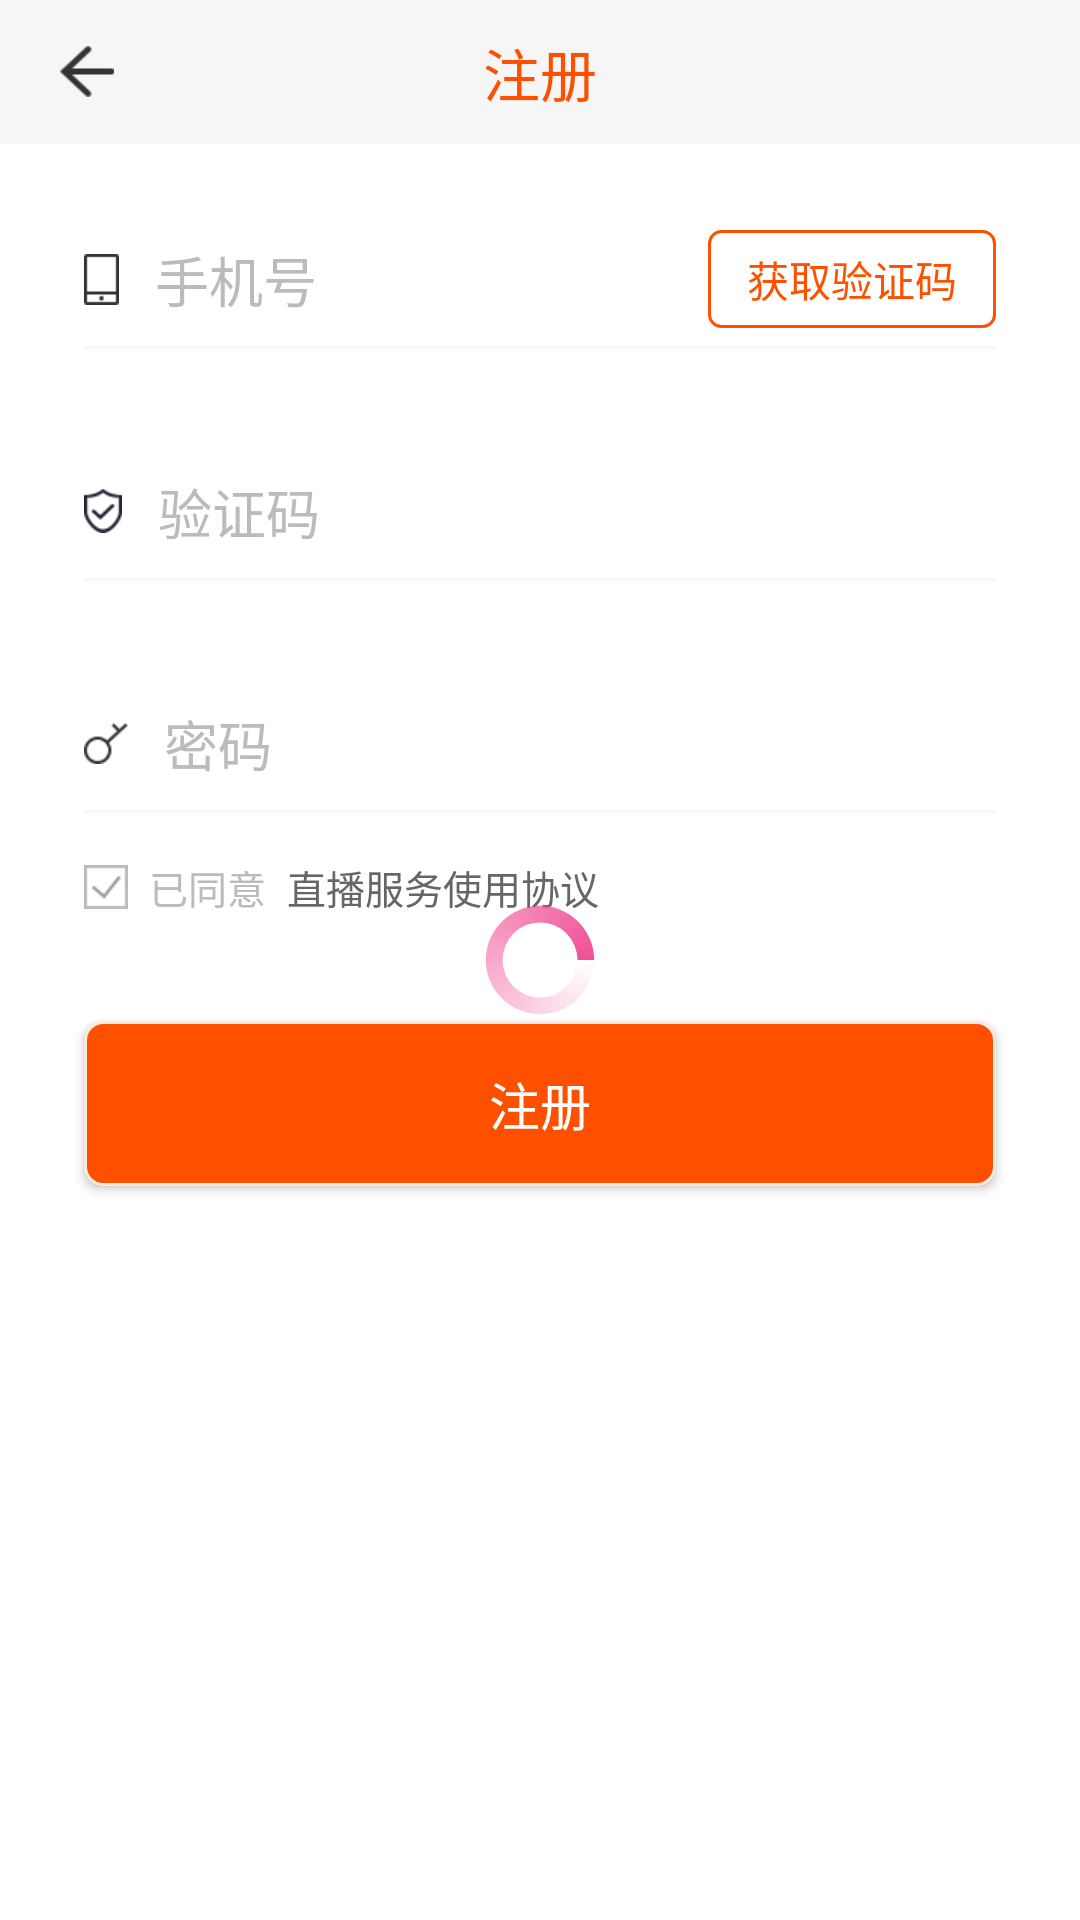

Point at icon controls on the screen. Image size 1080*1920, points as (x=x, y=y).
arrow back: (x=87, y=71)
